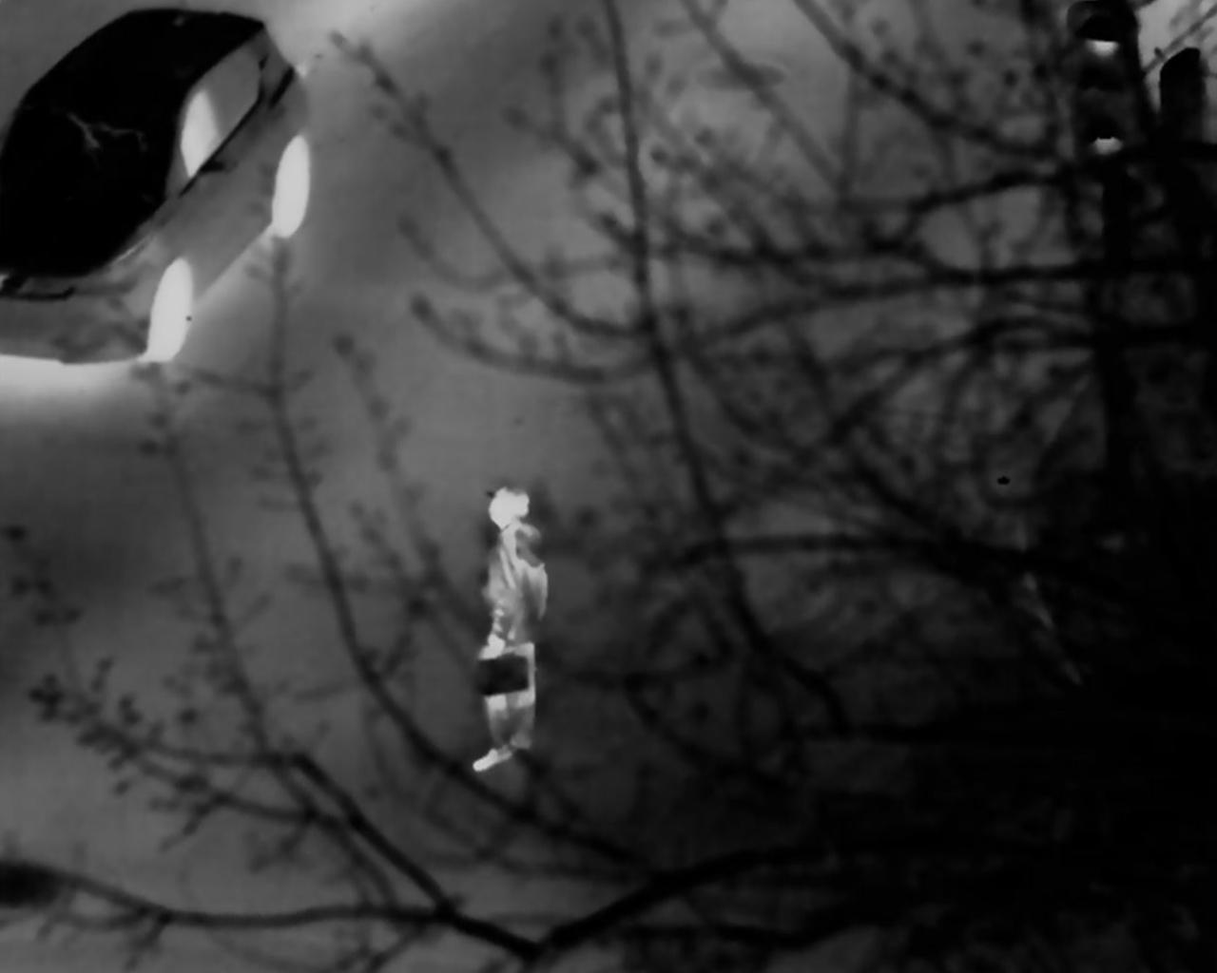person: (477, 480, 554, 772)
